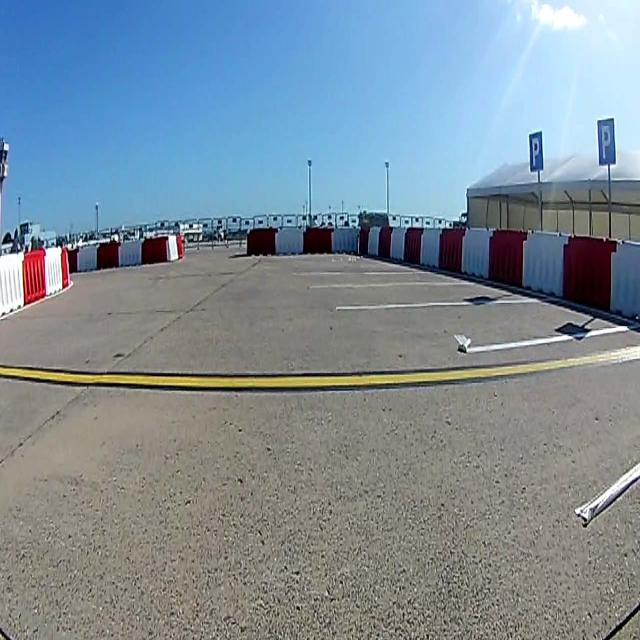park: (598, 118, 616, 166), (529, 132, 543, 174)
